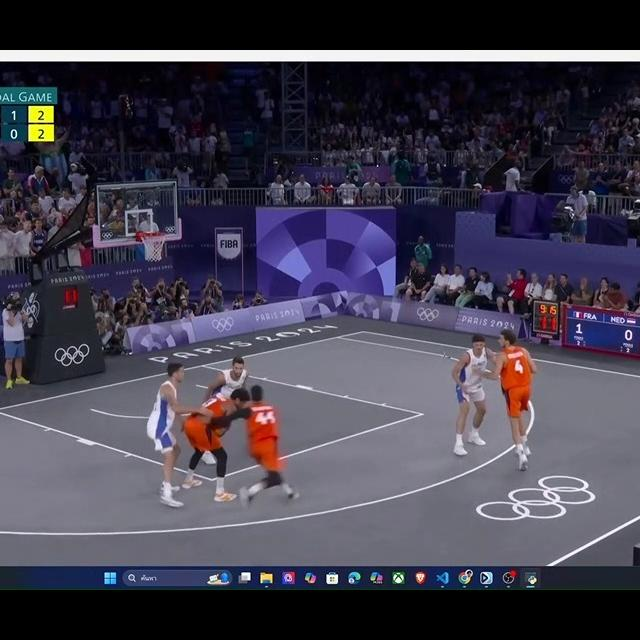hoop: (135, 228, 168, 263)
